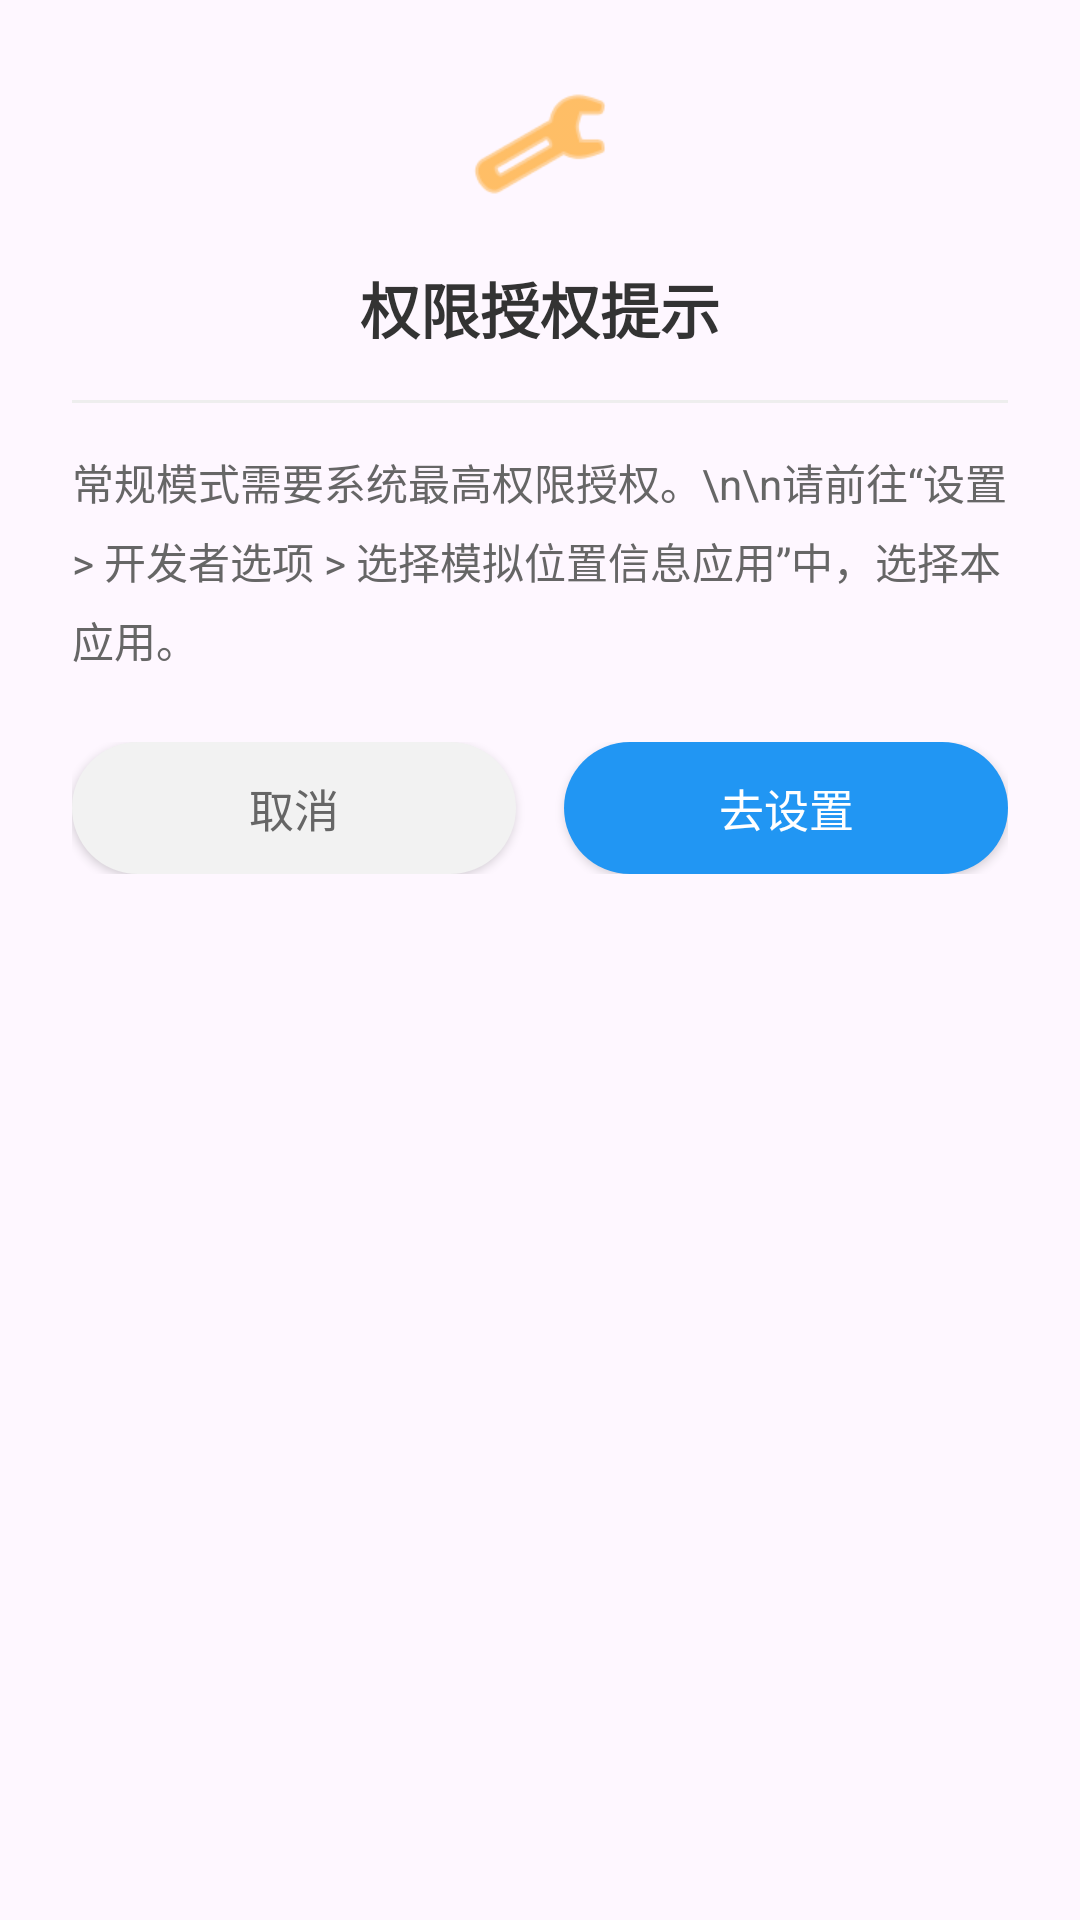

Icons on this 1080x1920 Android screen, each with its box as (x1, y1, x2, y2):
manage: (475, 94, 605, 194)
